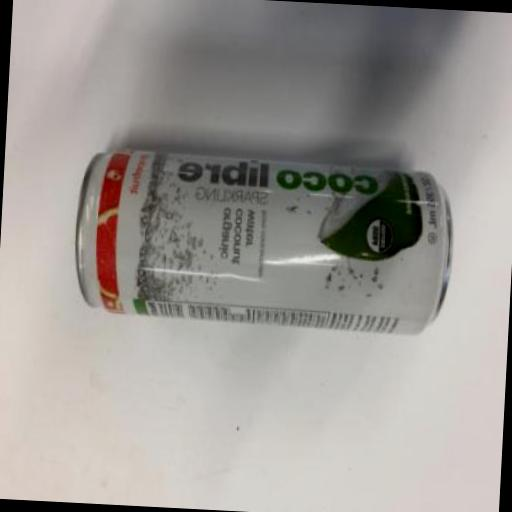metal: (71, 149, 456, 338)
